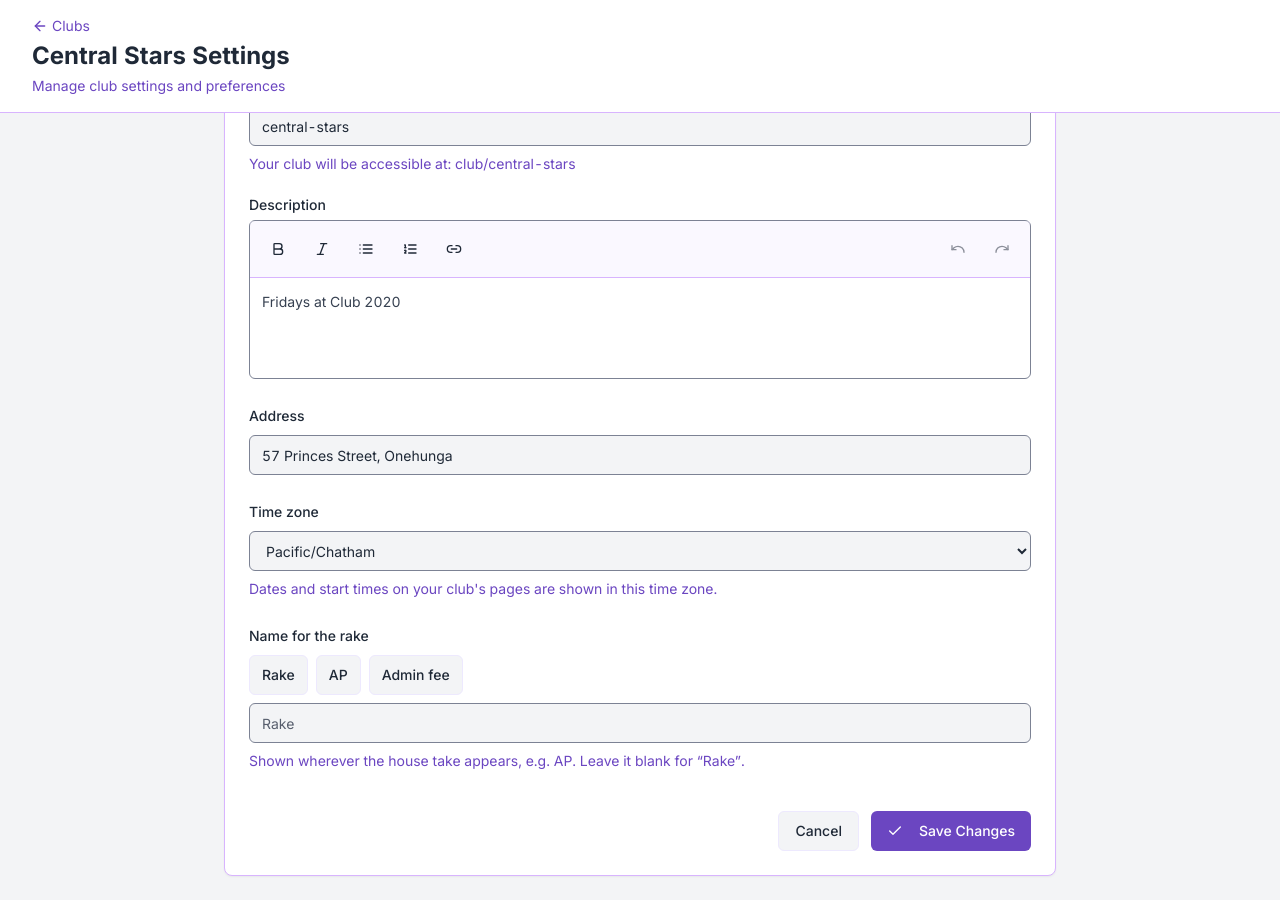
ClubSettingsPage: Profile › names the club's rake ("AP") with one tap, and saves it with the profile
(page scrolled)
Expected: the field labelled "Name for the rake" is empty, x1=249 y1=703 x2=1031 y2=743
Click the button "AP": (338, 675) x1=316 y1=655 x2=361 y2=695
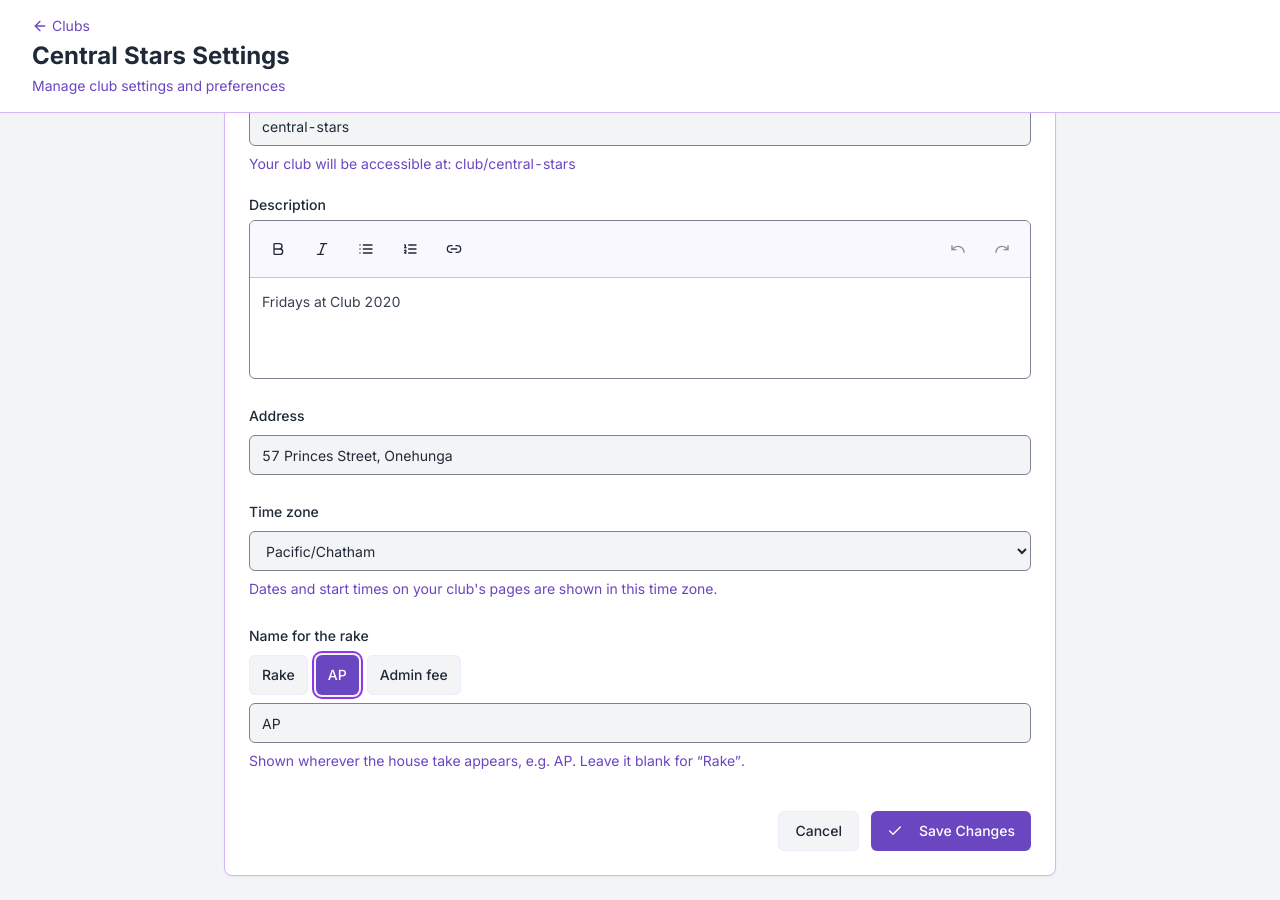
Now the field labelled "Name for the rake" holds "AP", box x1=249 y1=703 x2=1031 y2=743
Click the button "Save Changes": (951, 831) x1=871 y1=811 x2=1031 y2=851
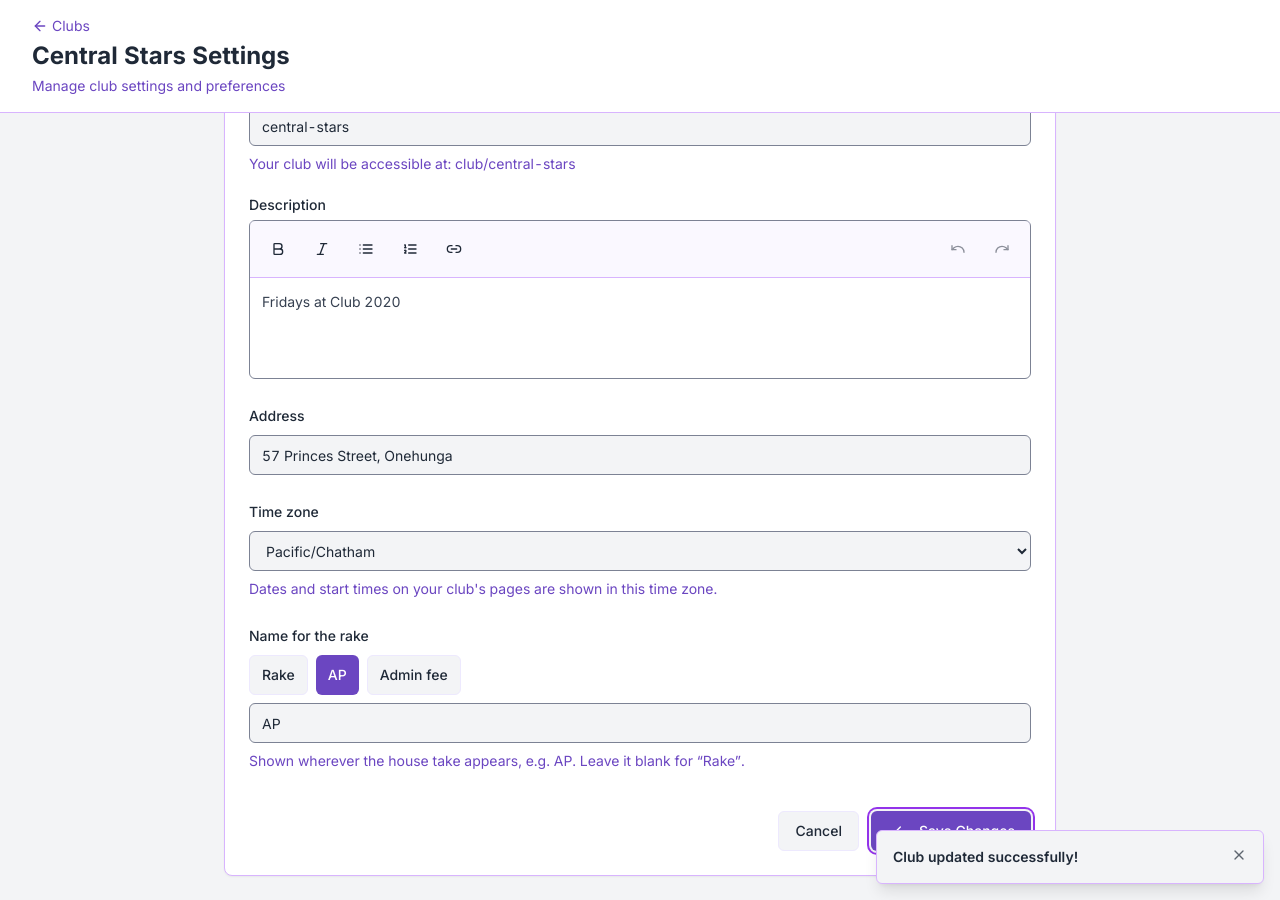
Now the field labelled "Name for the rake" holds "AP", box x1=249 y1=703 x2=1031 y2=743
Now the text "Club updated successfully!" is shown, box x1=893 y1=848 x2=1078 y2=865
